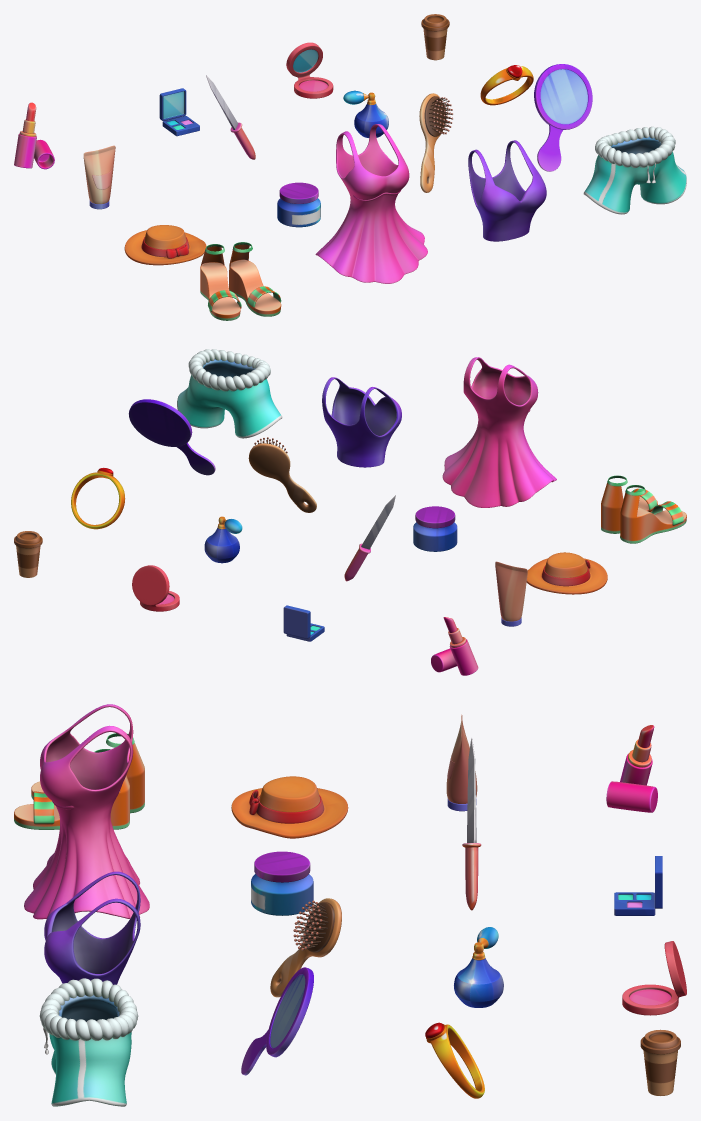
The model's file is Props Set_1_v2 (16 items).fbx.
3 views of the same model, one above another, from view 1: azimuth 30°, elevation 25°; view 2: azimuth 150°, elevation 25°; view 3: azimuth 270°, elevation 25° (orthographic). The views are drawn at different scales.
Parts seen in each view (by area): view 1: sleeveless__gown, girls_short, sleeveless_top_female1, brick_shoe_heel, hand_held_mirror, fashion_hat, hair_brush, skin_smooth_creme, pocket_mirror_w_powder_2, cosmetic_creme_tube, lipstick, pocket_mirror_w_powder_1 (+4 smaller); view 2: sleeveless__gown, girls_short, sleeveless_top_female1, brick_shoe_heel, hand_held_mirror, fashion_hat, hair_brush, skin_smooth_creme, cosmetic_creme_tube, pocket_mirror_w_powder_2, lipstick, perfume (+4 smaller); view 3: sleeveless__gown, girls_short, sleeveless_top_female1, fashion_hat, skin_smooth_creme, brick_shoe_heel, hair_brush, hand_held_mirror, lipstick, perfume, pocket_mirror_w_powder_2, cofee_cup (+4 smaller).
Boxes of the visible parts, <box> form: sleeveless__gown: <box>315,124,427,283</box>; girls_short: <box>583,126,686,214</box>; sleeveless_top_female1: <box>468,140,546,241</box>; brick_shoe_heel: <box>200,242,281,320</box>; hand_held_mirror: <box>534,64,592,171</box>; fashion_hat: <box>124,225,206,265</box>; hair_brush: <box>419,93,453,192</box>; skin_smooth_creme: <box>277,182,320,227</box>; pocket_mirror_w_powder_2: <box>286,42,333,98</box>; cosmetic_creme_tube: <box>83,145,115,209</box>; lipstick: <box>14,102,54,169</box>; pocket_mirror_w_powder_1: <box>159,88,199,136</box>; sleeveless__gown: <box>442,357,556,507</box>; girls_short: <box>177,349,282,438</box>; sleeveless_top_female1: <box>322,377,401,467</box>; brick_shoe_heel: <box>601,475,686,543</box>; hand_held_mirror: <box>128,399,215,475</box>; fashion_hat: <box>526,552,607,594</box>; hair_brush: <box>248,437,316,512</box>; skin_smooth_creme: <box>413,506,457,551</box>; cosmetic_creme_tube: <box>495,561,527,626</box>; pocket_mirror_w_powder_2: <box>132,565,179,611</box>; lipstick: <box>431,617,478,675</box>; perfume: <box>204,516,242,563</box>; sleeveless__gown: <box>24,704,149,919</box>; girls_short: <box>39,978,138,1106</box>; sleeveless_top_female1: <box>44,871,140,984</box>; fashion_hat: <box>231,776,348,838</box>; skin_smooth_creme: <box>251,851,313,915</box>; brick_shoe_heel: <box>14,733,144,829</box>; hair_brush: <box>270,898,341,997</box>; hand_held_mirror: <box>241,967,313,1075</box>; lipstick: <box>606,725,657,812</box>; perfume: <box>454,927,503,1007</box>; pocket_mirror_w_powder_2: <box>622,941,686,1015</box>; cofee_cup: <box>640,1029,680,1095</box>.
Size of the model in its own units: 63.14 by 16.92 by 52.81.
6 materials, 6 textured.
